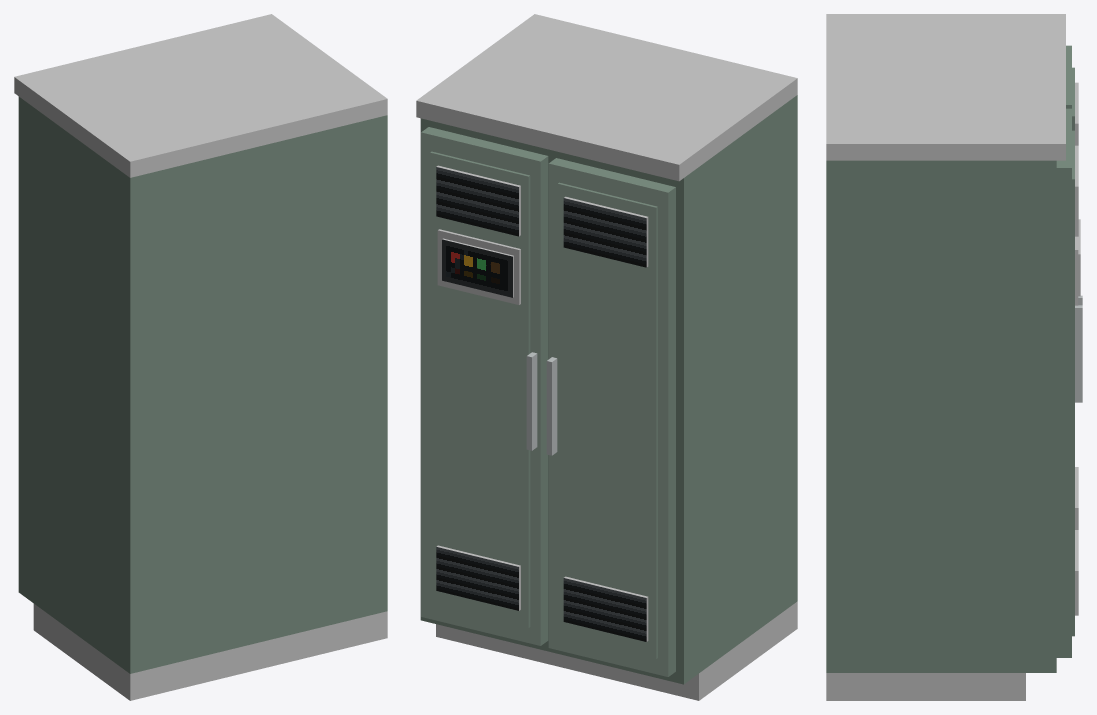
File: cabinet_plain_item.obj
3 views of the same model, side by side, from view 1: azimuth 30°, elevation 25°; view 2: azimuth 150°, elevation 25°; view 3: azimuth 270°, elevation 25° (orthographic). The views are drawn at different scales.
Visible parts, largest first — view 1: cabinet_plain_item; view 2: cabinet_plain_item; view 3: cabinet_plain_item.
Boxes of the visible parts, x1,y1,x2,y2 form: cabinet_plain_item: (14,14,387,700); cabinet_plain_item: (416,14,797,700); cabinet_plain_item: (826,14,1082,700).
Size of the model in its own units: 1 by 2 by 0.835.
